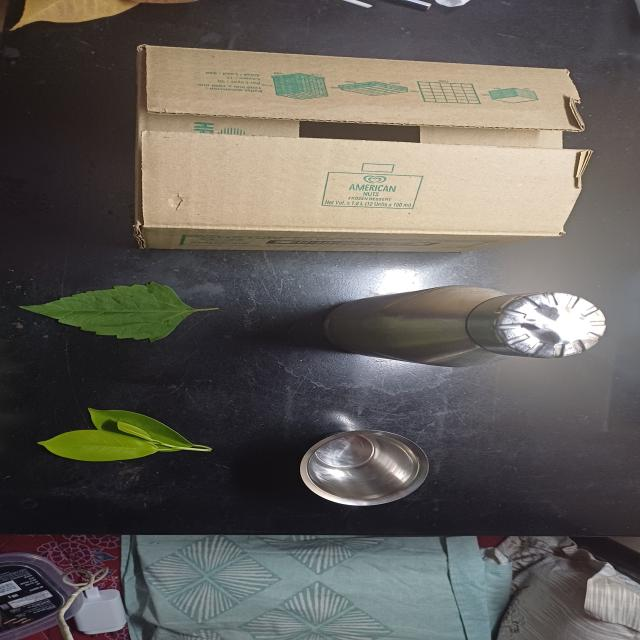CardBoard-Bio: (127, 42, 592, 255)
Leaf-Bio: (13, 280, 220, 343), (36, 407, 212, 463)
Steel-NonBio: (313, 282, 614, 371), (297, 428, 432, 507)
